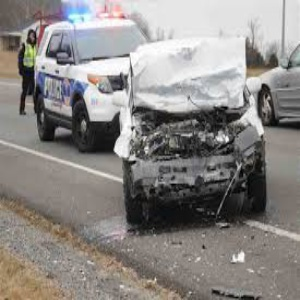bonnet: (130, 41, 249, 122)
